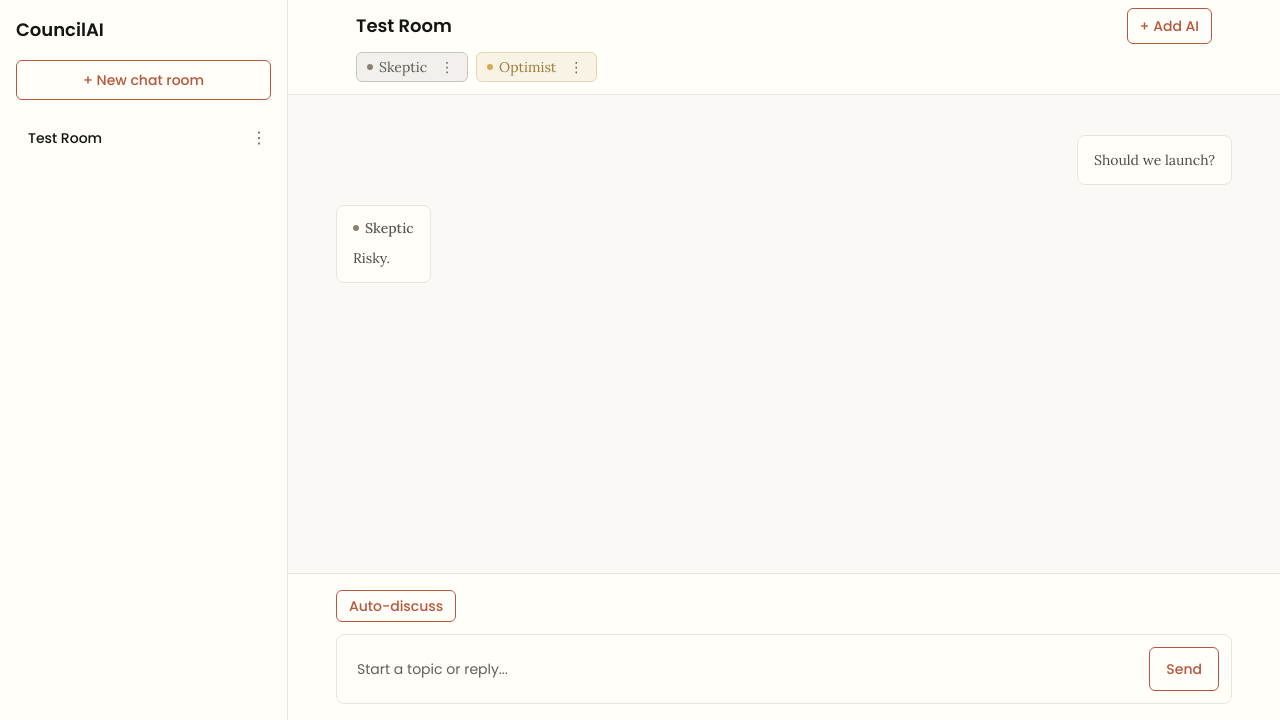
Scenario: Auto-discuss › hides Continue discussion and disables Send while auto-discussing
Click the button "Auto-discuss": x=396, y=606 [336,590,456,622]
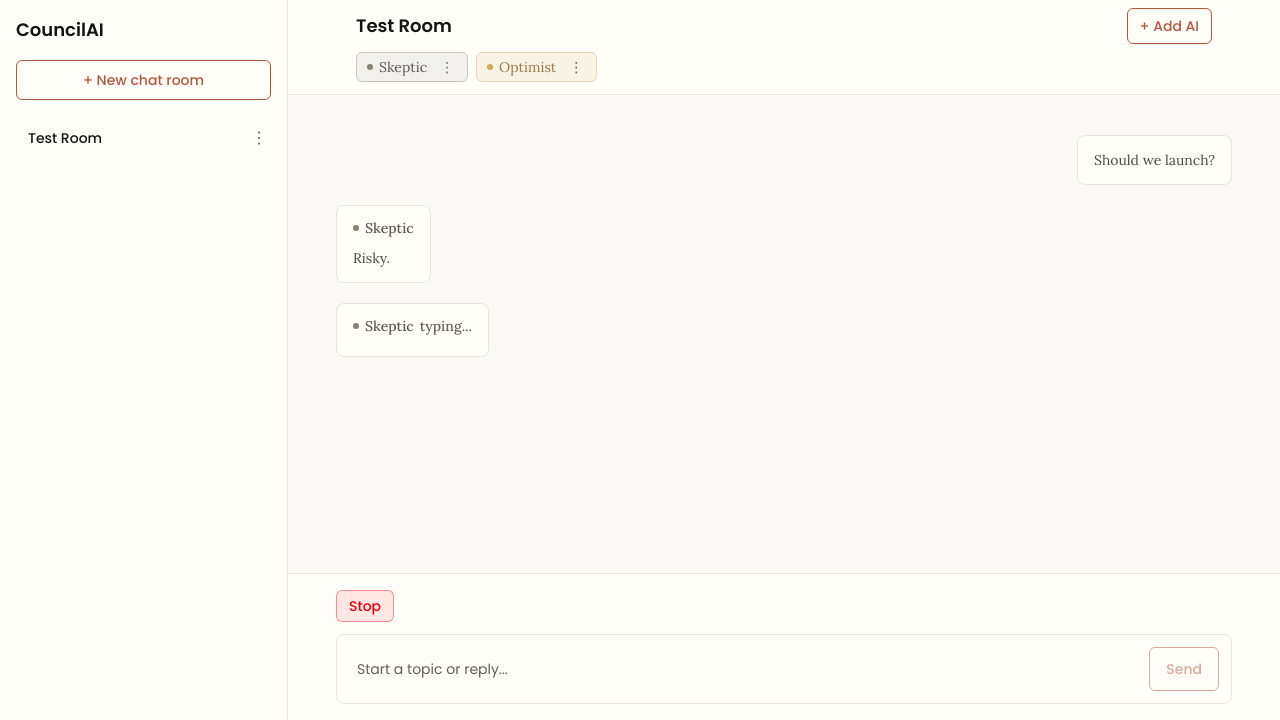
Expected: the text box labelled "Start a topic or reply" is disabled, [349,647,1137,691]
Result: the button "Stop" is shown at [336,590,394,622]
Result: the button "Send" is disabled at [1149,647,1219,691]
